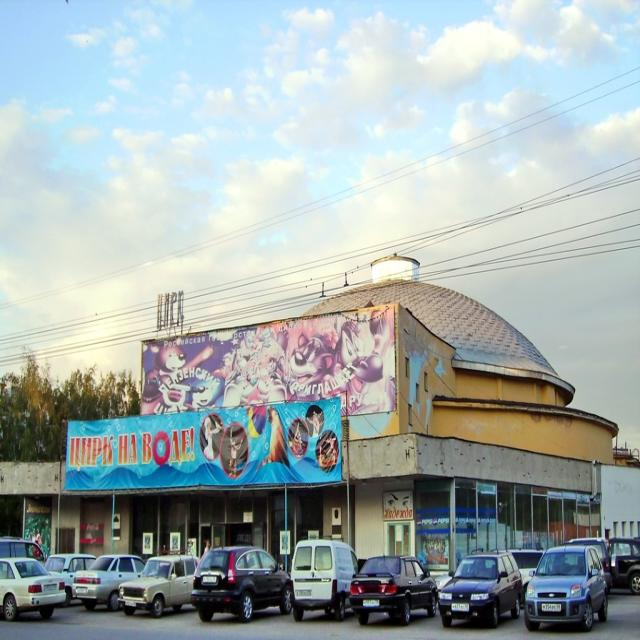car: (526, 551, 617, 628)
